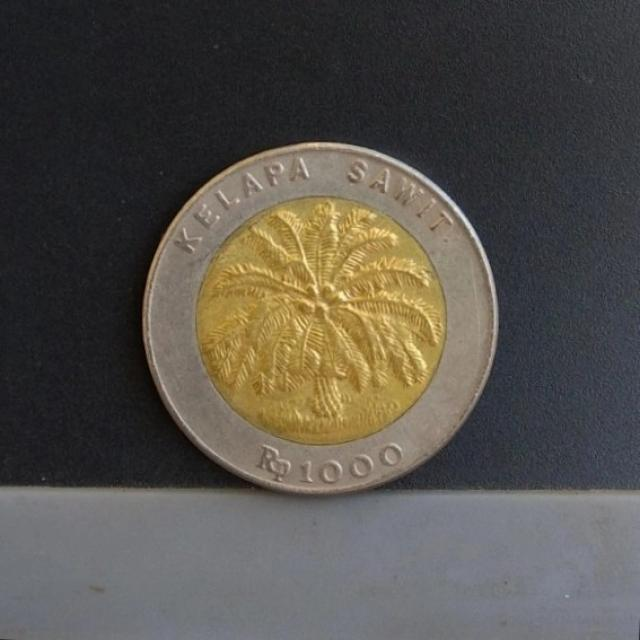1000-sawit: (138, 134, 513, 495)
